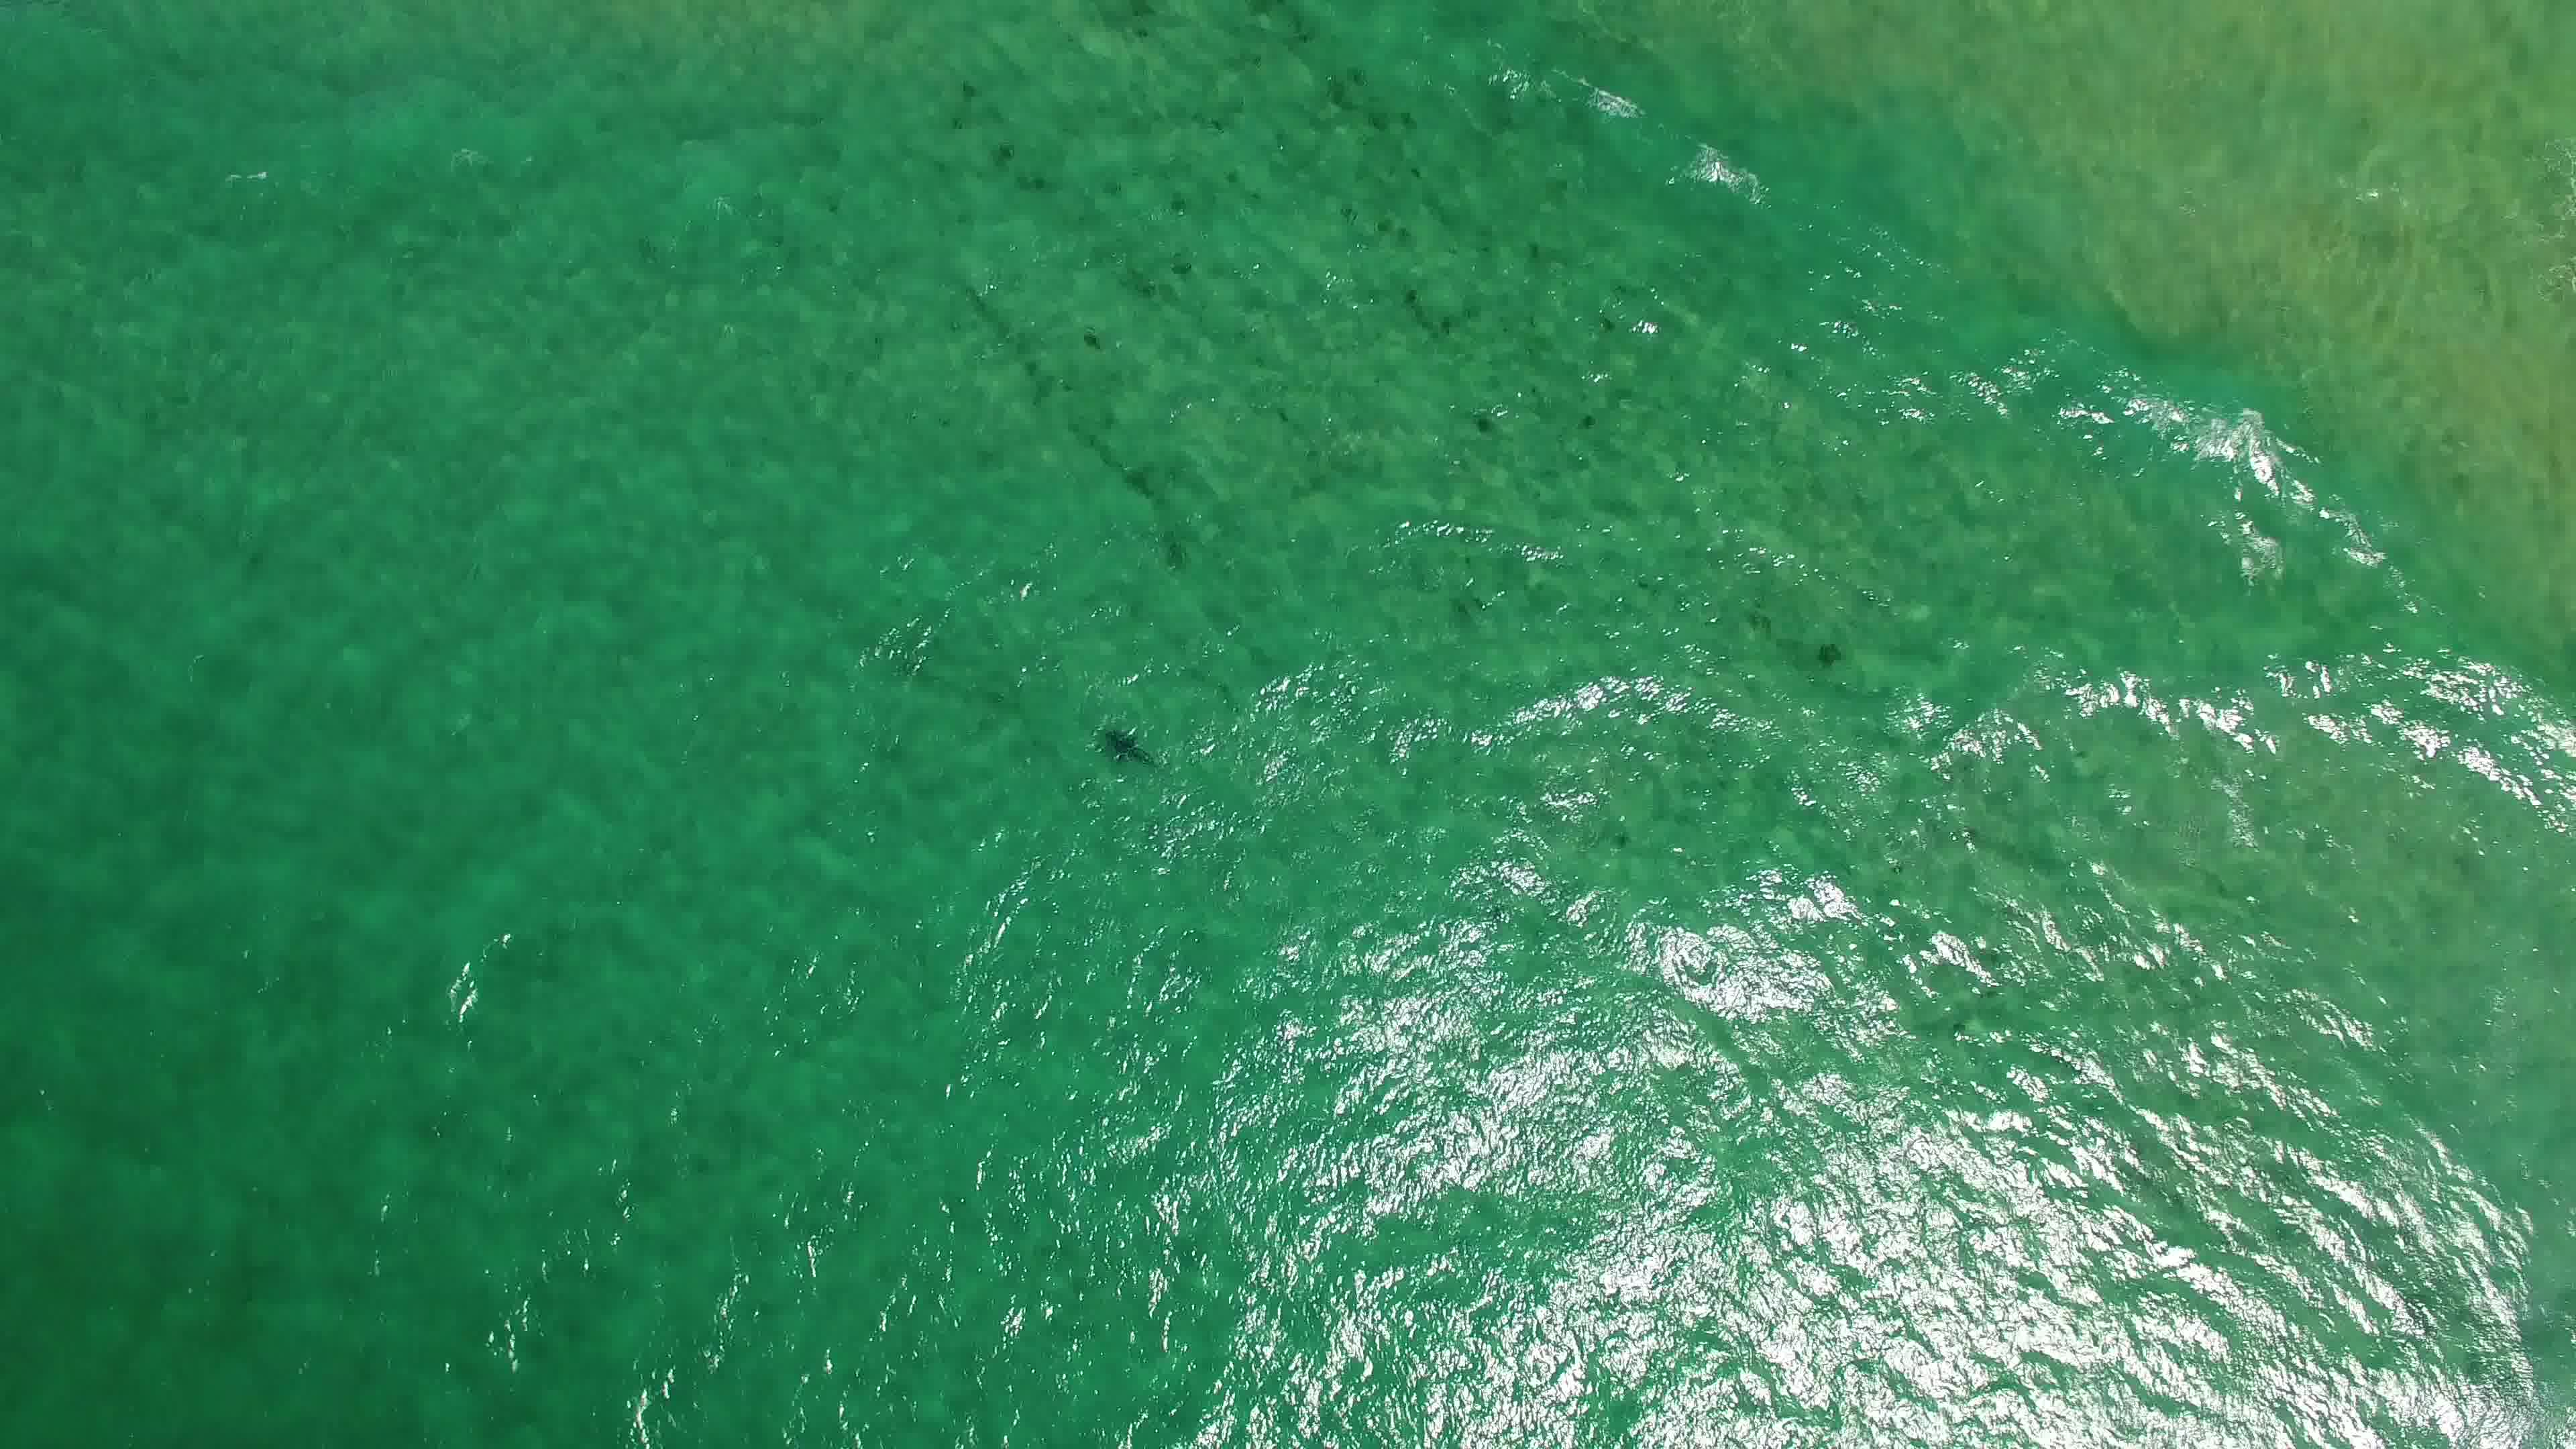shark: (1099, 718, 1173, 773)
